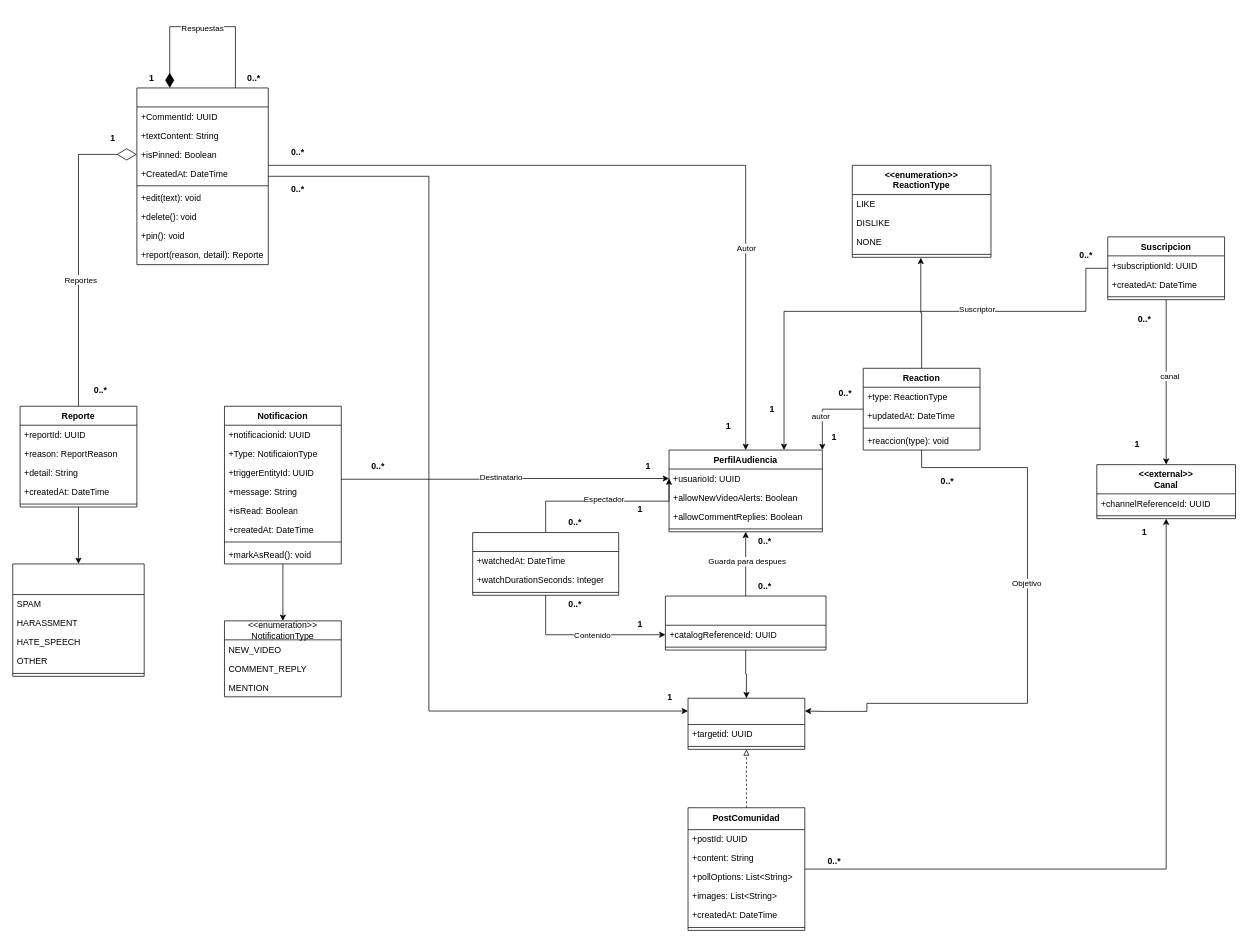
Some shapes in this 1248 by 943 pixel diagram are drawn without their labels. Here are the shapes that lost their labels. From the top down, the box of each, then its label:
(136, 87, 268, 265): Comentario
(472, 532, 619, 595): ItemHistorial
(12, 563, 144, 676): <<enumeration>> ReportReason
(665, 595, 826, 650): <<external>> ItemCatalogo
(687, 698, 805, 749): <<interface>> SobreTarget
